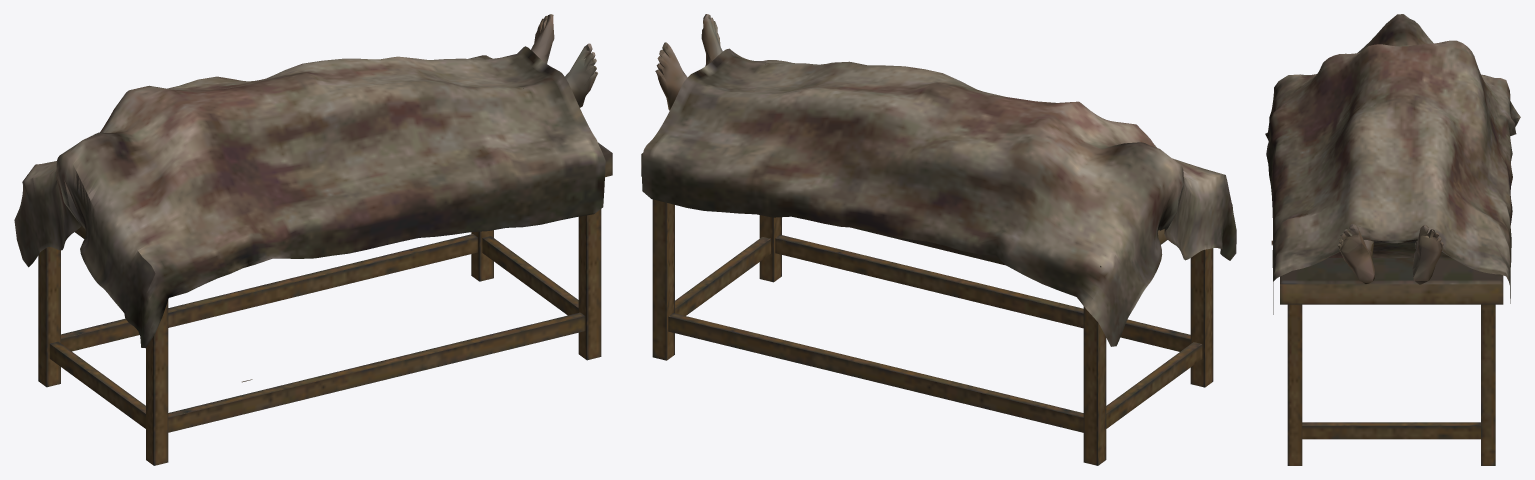
The model's file is body_shoot_your_nightmare_2.glb.
3 renders of one model, left to right at view 1: azimuth 30°, elevation 25°; view 2: azimuth 150°, elevation 25°; view 3: azimuth 270°, elevation 25°, orthographic. The views are drawn at different scales.
Visible parts, largest first — view 1: Object_2; view 2: Object_2; view 3: Object_2.
Part boxes in pixels (<box>): Object_2: <box>14,14,612,465</box>; Object_2: <box>641,14,1236,465</box>; Object_2: <box>1265,14,1520,465</box>.
Bounding box in the file's own units: 0.7678 × 0.4288 × 0.3737.
1 material, 1 textured.
